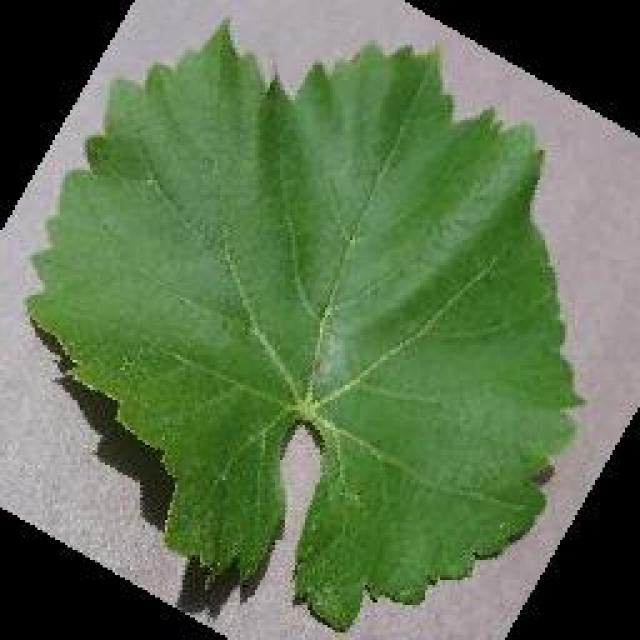Grape___healthy: (18, 15, 594, 635)
